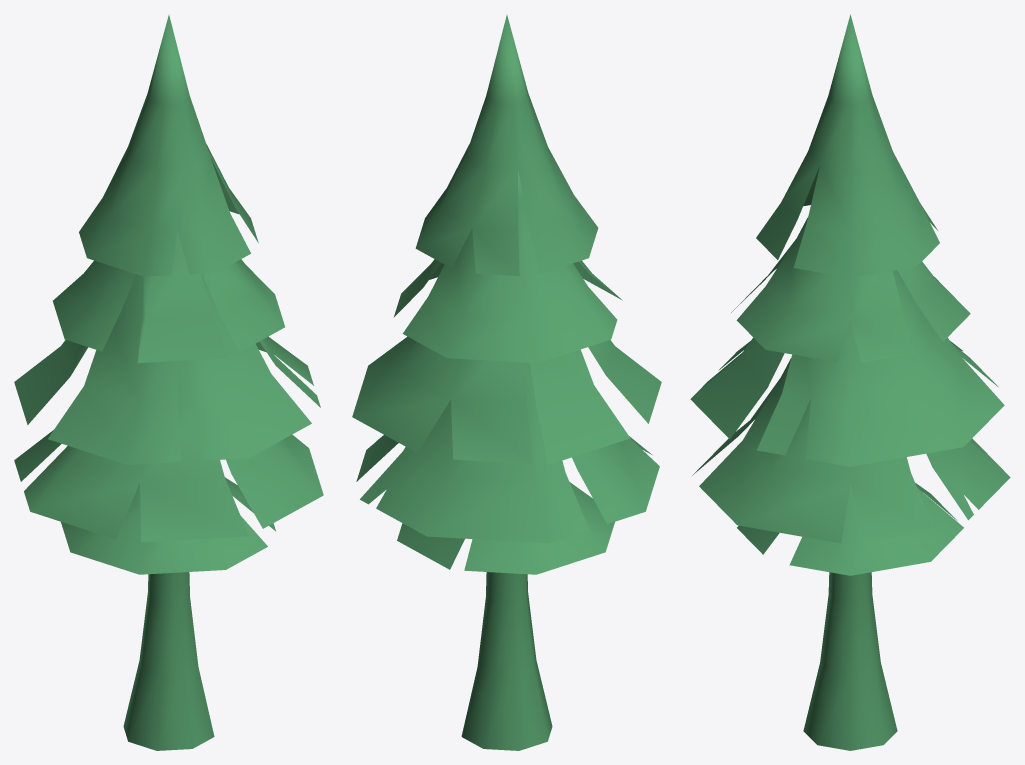
The model's file is TreeA.fbx.
3 views of the same model, side by side, from view 1: azimuth 30°, elevation 25°; view 2: azimuth 150°, elevation 25°; view 3: azimuth 270°, elevation 25° (orthographic).
Parts seen in each view (by area): view 1: TreeA; view 2: TreeA; view 3: TreeA.
Boxes of the visible parts, <box> form: TreeA: <box>14,15,323,750</box>; TreeA: <box>352,15,661,750</box>; TreeA: <box>690,14,1010,750</box>.
Size of the model in its own units: 6.8 by 16.81 by 6.8.
